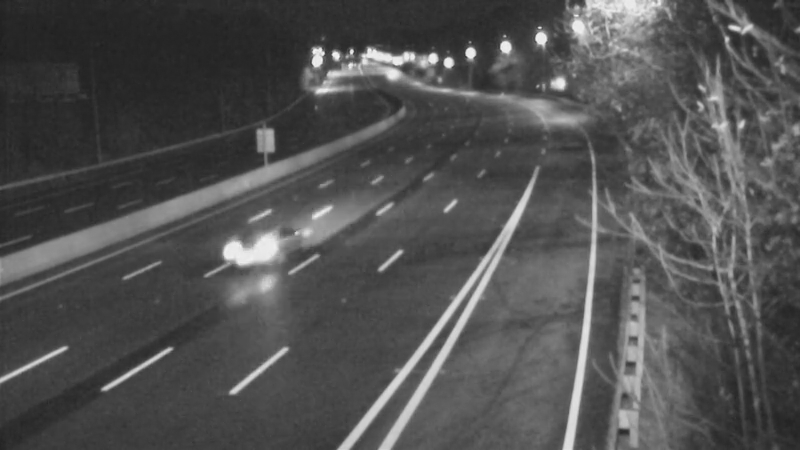vehicle: (218, 213, 298, 293), (365, 48, 415, 98)
